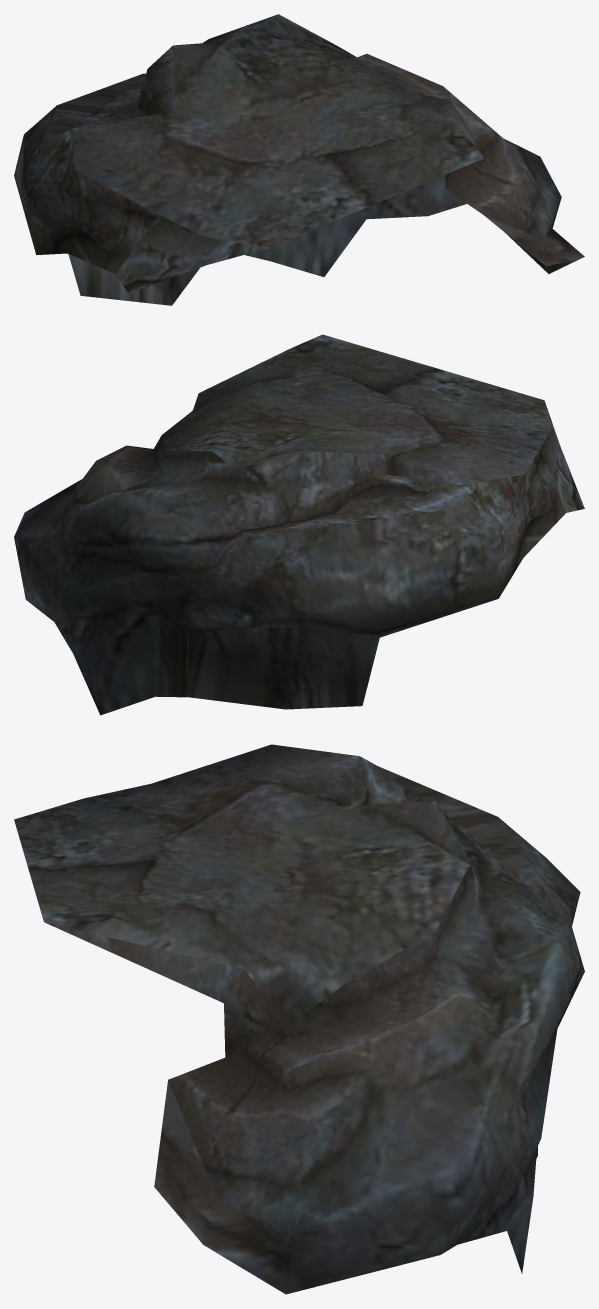
The model's file is S_Rock_Yellow036_H01.FBX.
3 views of the same model, one above another, from view 1: azimuth 30°, elevation 25°; view 2: azimuth 150°, elevation 25°; view 3: azimuth 270°, elevation 25° (orthographic). The views are drawn at different scales.
Visible parts, largest first — view 1: S_Rock_Yellow036_H01; view 2: S_Rock_Yellow036_H01; view 3: S_Rock_Yellow036_H01.
Boxes of the visible parts, <box> form: S_Rock_Yellow036_H01: <box>14,14,584,305</box>; S_Rock_Yellow036_H01: <box>14,334,584,715</box>; S_Rock_Yellow036_H01: <box>14,744,584,1294</box>.
Bounding box in the file's own units: 995 × 802 × 564.
1 material, 1 textured.
